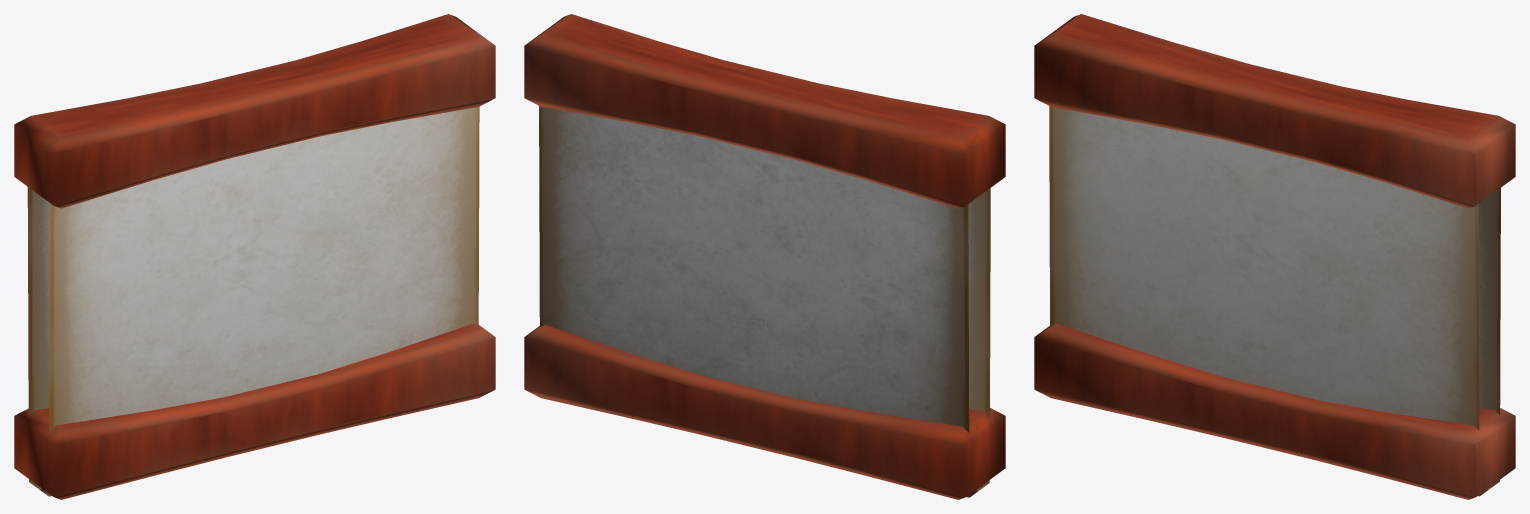
Rendered from wall_no_columne.fbx.
3 renders of one model, left to right at view 1: azimuth 30°, elevation 25°; view 2: azimuth 150°, elevation 25°; view 3: azimuth 330°, elevation 25°, orthographic.
Visible parts, largest first — view 1: wall_no_columen; view 2: wall_no_columen; view 3: wall_no_columen.
Boxes of the visible parts, box(x1,y1,x2,y2) form: wall_no_columen: box(14, 14, 495, 499); wall_no_columen: box(524, 14, 1005, 499); wall_no_columen: box(1034, 14, 1515, 499).
Size of the model in its own units: 964 by 754 by 151.
